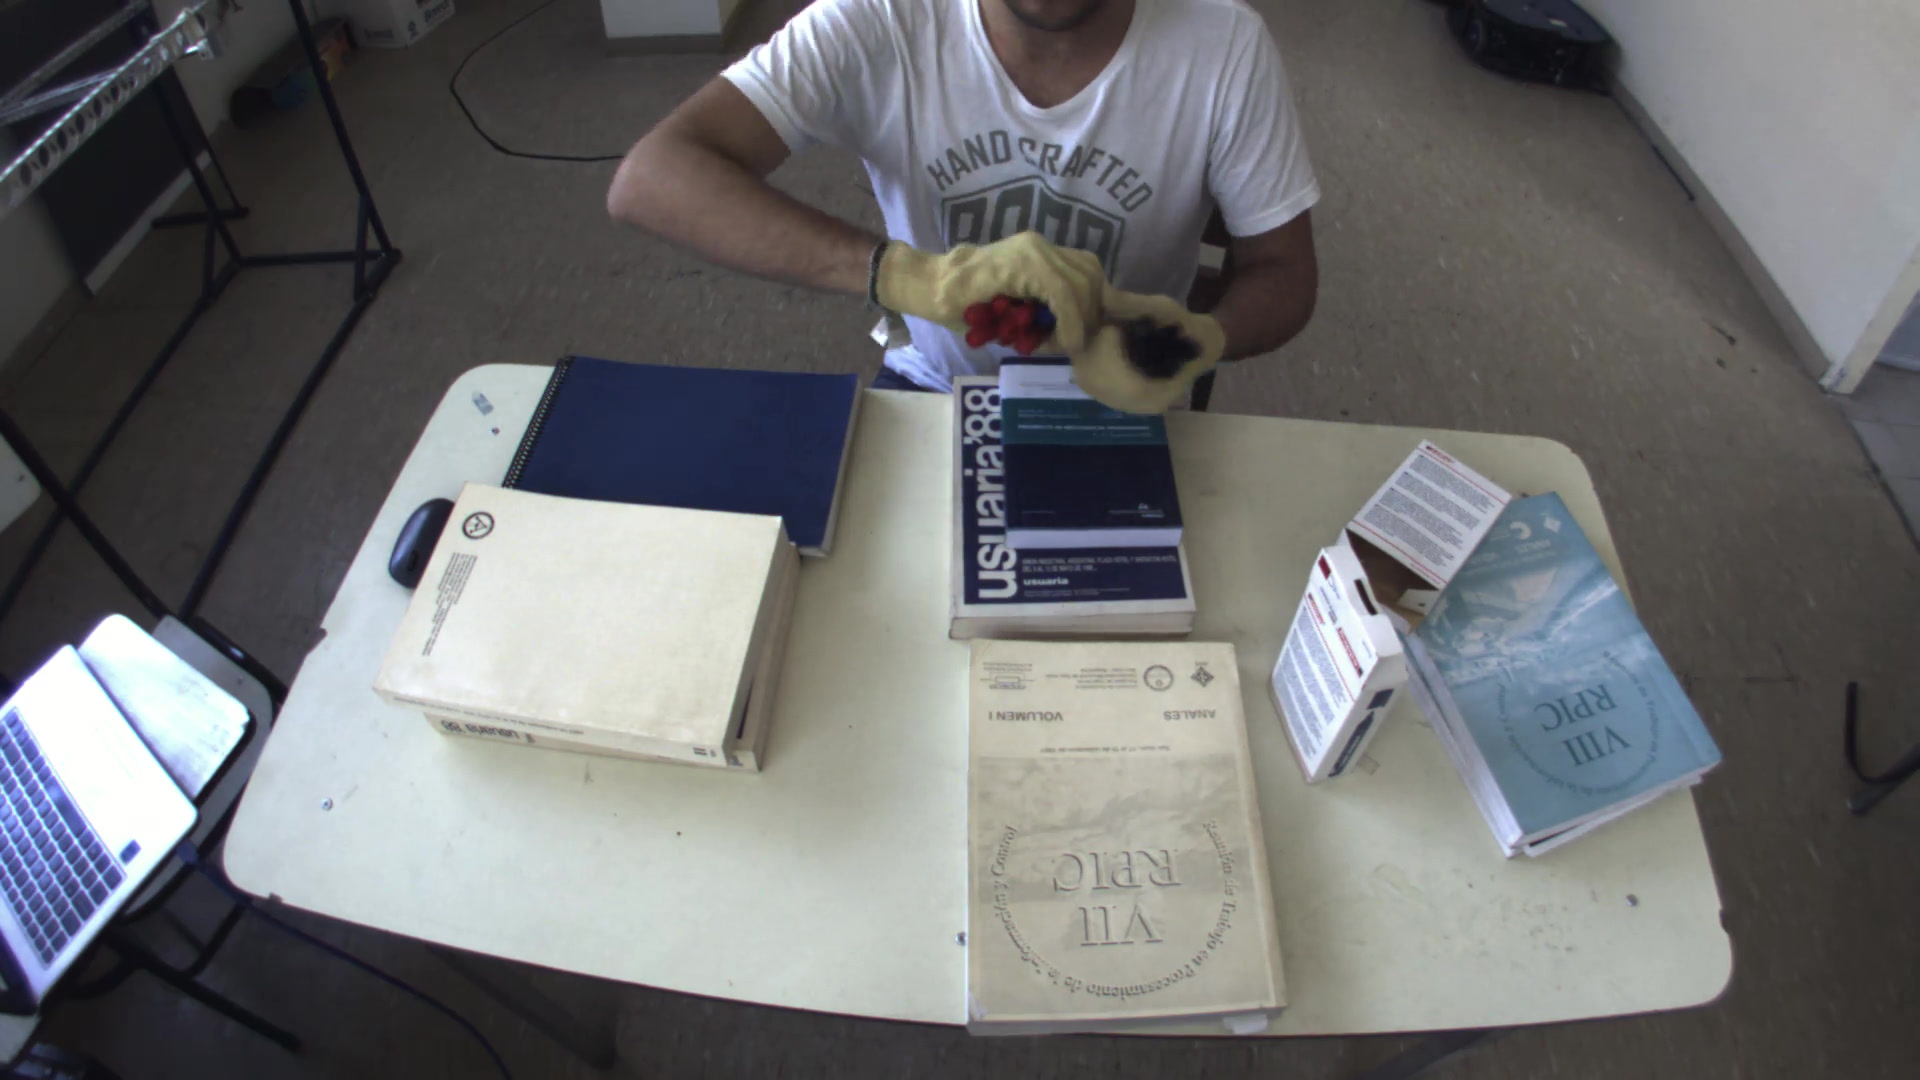hand: (855, 214, 1108, 334), (1060, 274, 1237, 425)
